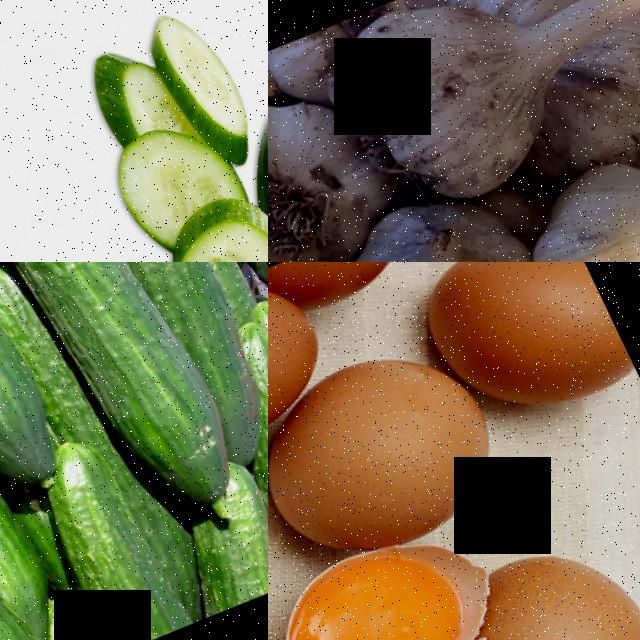cucumber: (0, 262, 236, 511), (44, 262, 268, 475), (9, 435, 191, 640), (135, 0, 266, 160), (131, 188, 268, 262), (0, 518, 47, 640)
egg_: (268, 320, 521, 579), (405, 262, 640, 442), (268, 527, 486, 640), (460, 515, 640, 640), (268, 262, 349, 501)
garlic: (325, 0, 602, 223), (268, 68, 406, 262), (497, 124, 640, 262), (340, 178, 556, 262)
